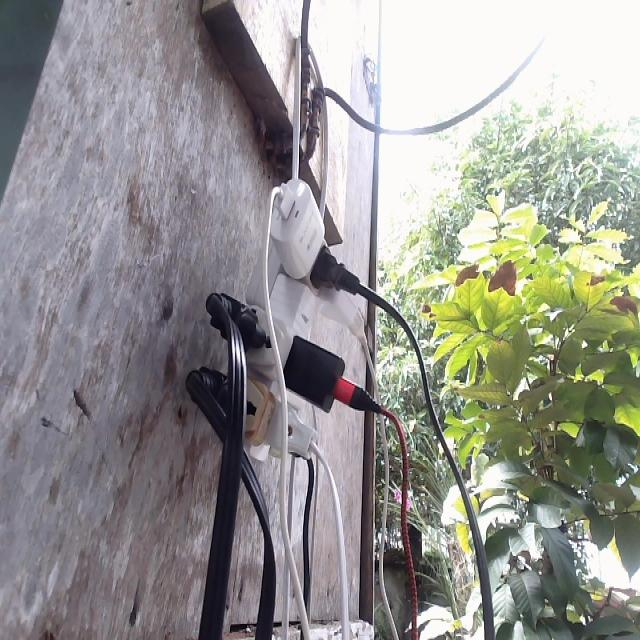-: (182, 172, 414, 493)
